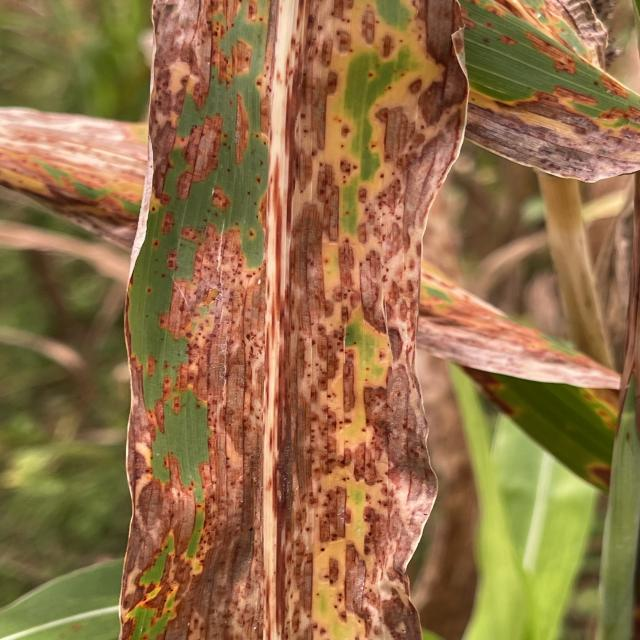millet_healthy: (426, 294, 640, 640)
millet_rust: (1, 90, 628, 498), (120, 0, 468, 640), (337, 0, 640, 182)
